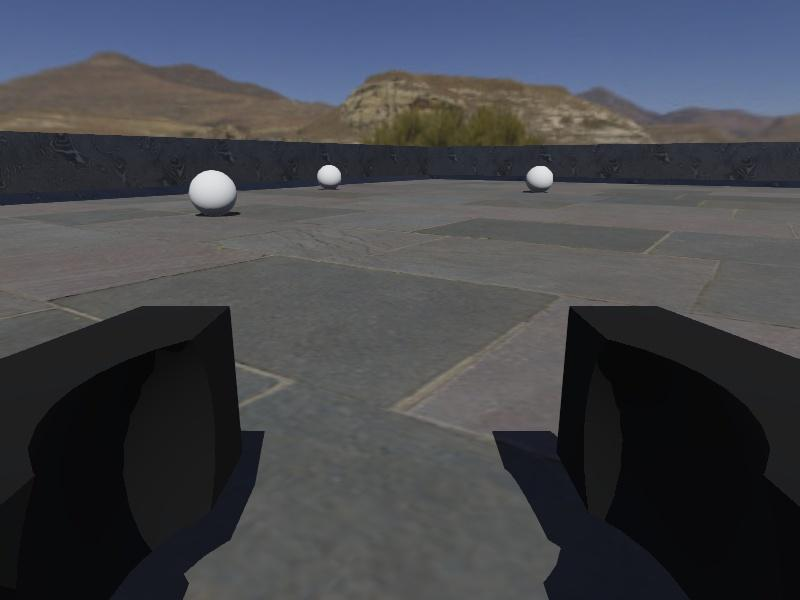white ball: (188, 168, 239, 219), (525, 163, 555, 192), (316, 162, 343, 190)
